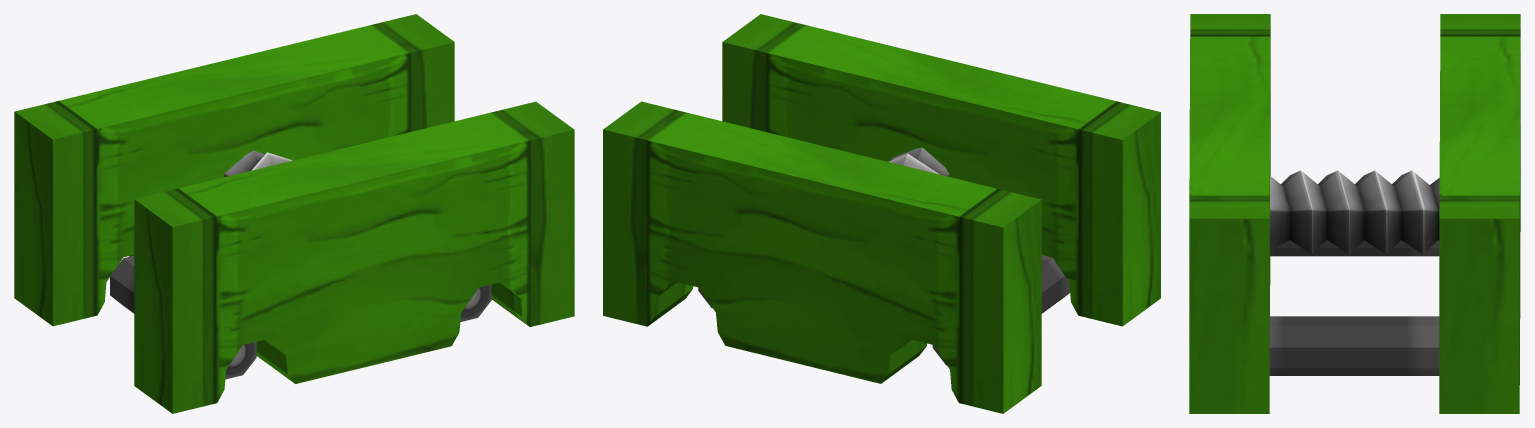
File: dynamic_fence_green_01.fbx
3 views of the same model, side by side, from view 1: azimuth 30°, elevation 25°; view 2: azimuth 150°, elevation 25°; view 3: azimuth 270°, elevation 25° (orthographic). The views are drawn at different scales.
Parts seen in each view (by area): view 1: front_wall_11, back_wall_8, spring_14; view 2: back_wall_8, front_wall_11, spring_14; view 3: back_wall_8, front_wall_11, spring_14.
Part boxes in pixels (left/top/right/bottom): front_wall_11: left=134, top=101, right=574, bottom=413; back_wall_8: left=14, top=14, right=491, bottom=379; spring_14: left=224, top=150, right=292, bottom=176; back_wall_8: left=603, top=101, right=1070, bottom=413; front_wall_11: left=722, top=14, right=1160, bottom=326; spring_14: left=888, top=147, right=949, bottom=176; back_wall_8: left=1269, top=14, right=1520, bottom=413; front_wall_11: left=1189, top=14, right=1270, bottom=413; spring_14: left=1270, top=170, right=1439, bottom=254.
Bounding box in the file's own units: 90.02 × 40 × 61.56.
